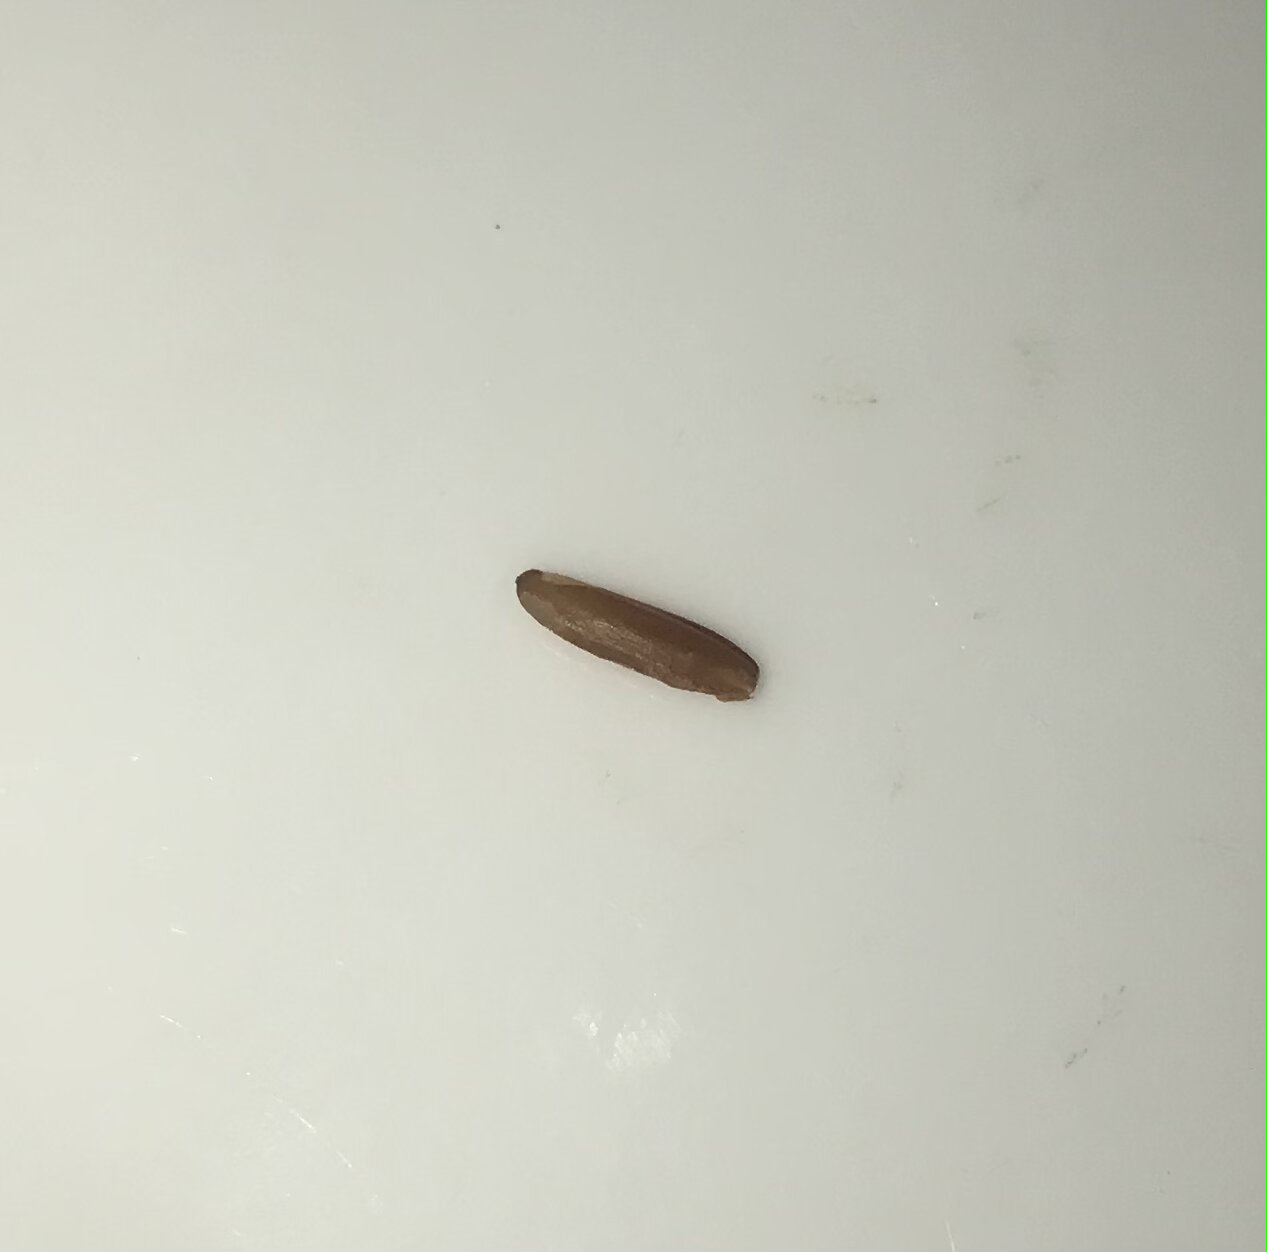Gao Huyet Rong: (502, 556, 765, 712)
